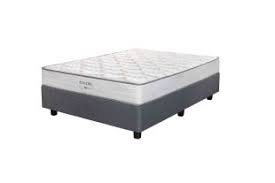bed-matress: (40, 49, 220, 105)
